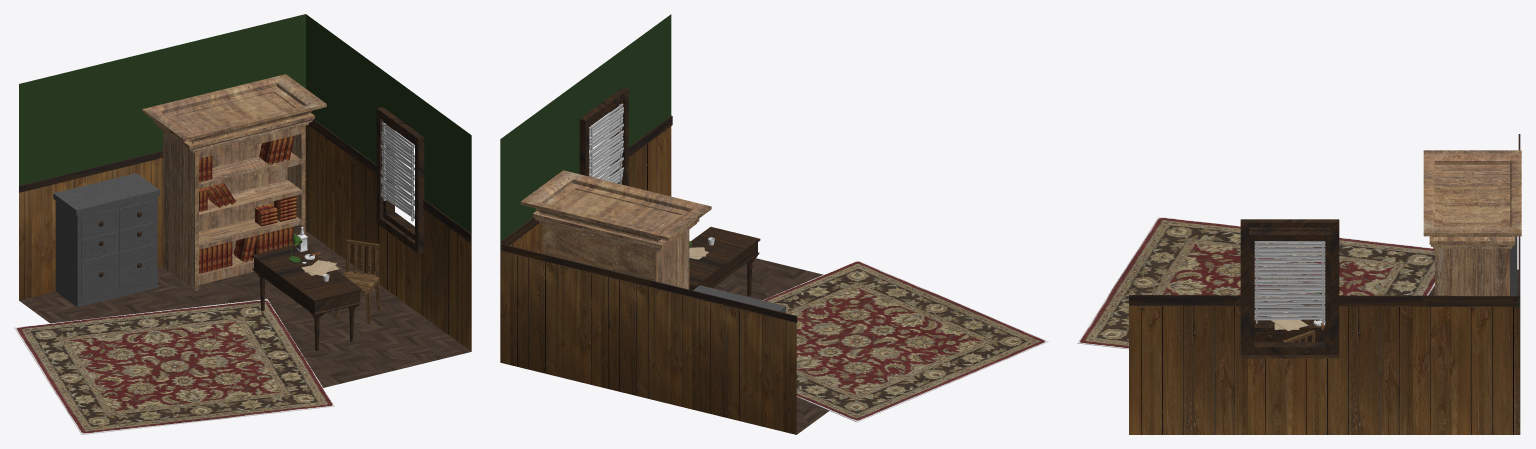
Rendered from noir.fbx.
The picture shows the model from 3 angles, left to right: view 1: azimuth 30°, elevation 25°; view 2: azimuth 150°, elevation 25°; view 3: azimuth 270°, elevation 25°; orthographic projection. The views are drawn at different scales.
Parts seen in each view (by area): view 1: wall, carpet, bookshelf, floor, commode, table, window, jalousie, chair, books, books.001, books.002 (+1 smaller); view 2: wall, carpet, bookshelf, table, floor, jalousie, window, commode; view 3: wall, carpet, bookshelf, window, jalousie, table, commode.
Boxes of the visible parts, box(x1,y1,x2,y2) form: wall: box(19, 14, 471, 351); carpet: box(14, 299, 334, 434); bookshelf: box(142, 74, 326, 290); floor: box(19, 230, 471, 387); commode: box(53, 173, 159, 307); table: box(251, 245, 361, 350); window: box(376, 107, 424, 253); jalousie: box(380, 122, 414, 221); chair: box(334, 239, 381, 323); books: box(199, 241, 232, 273); books.001: box(254, 226, 293, 254); books.002: box(274, 195, 296, 221); wall: box(500, 14, 797, 434); carpet: box(763, 260, 1048, 422); bookshelf: box(520, 170, 711, 289); table: box(689, 227, 760, 296); floor: box(713, 258, 829, 434); jalousie: box(589, 103, 623, 184); window: box(579, 87, 628, 185); commode: box(693, 285, 785, 312); wall: box(1129, 134, 1520, 434); carpet: box(1077, 216, 1434, 349); bookshelf: box(1423, 150, 1521, 295); window: box(1240, 219, 1339, 358); jalousie: box(1254, 241, 1325, 323); table: box(1254, 300, 1325, 342); commode: box(1510, 236, 1517, 295).
Size of the model in its own units: 1393 by 750 by 1181.
Materials: 20 (12 with a texture image).
